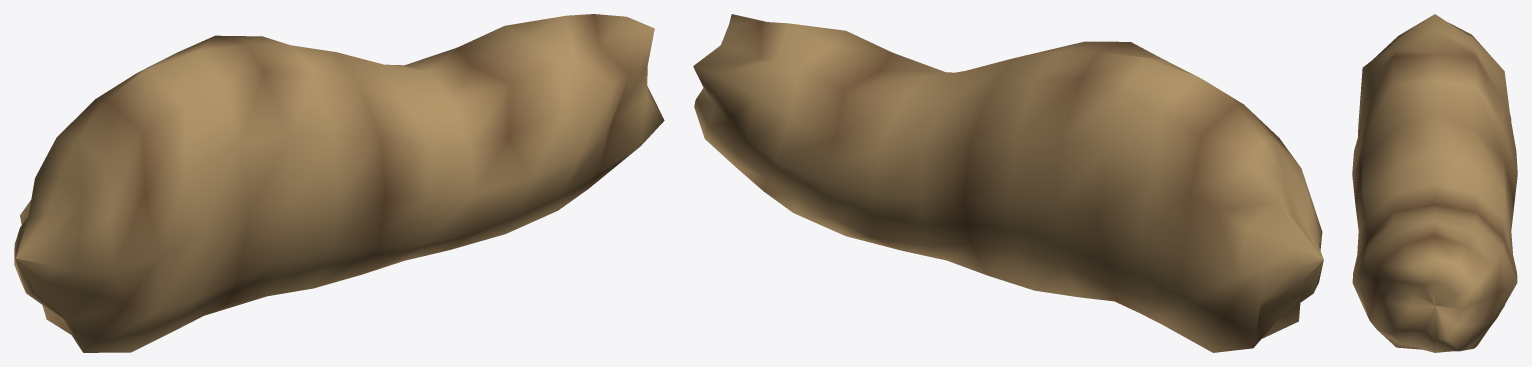
Rendered from chicken.glb.
3 renders of one model, left to right at view 1: azimuth 30°, elevation 25°; view 2: azimuth 150°, elevation 25°; view 3: azimuth 270°, elevation 25°, orthographic. The views are drawn at different scales.
Bounding box in the file's own units: 0.5837 × 0.2375 × 0.1602.
